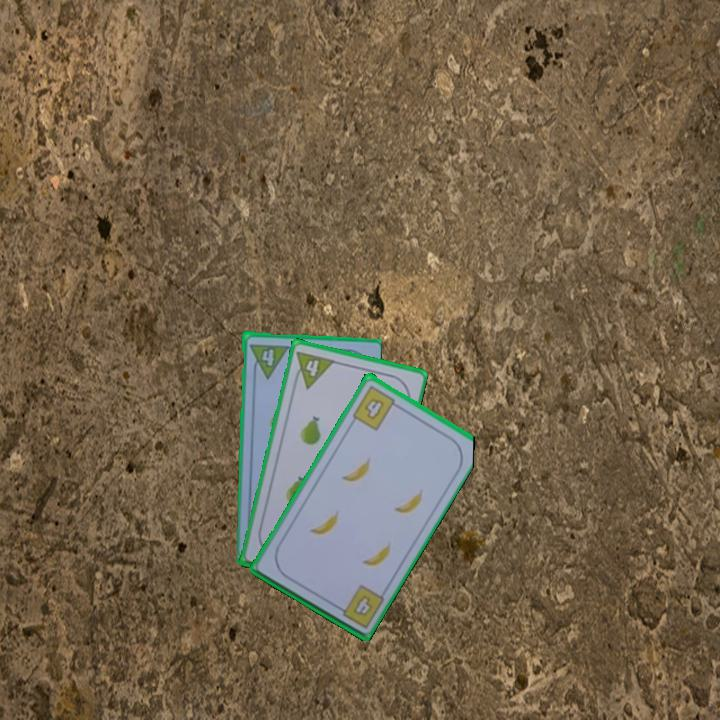4b: (349, 381, 403, 433), (349, 592, 376, 619)
4p: (289, 348, 337, 391), (246, 340, 290, 380)
